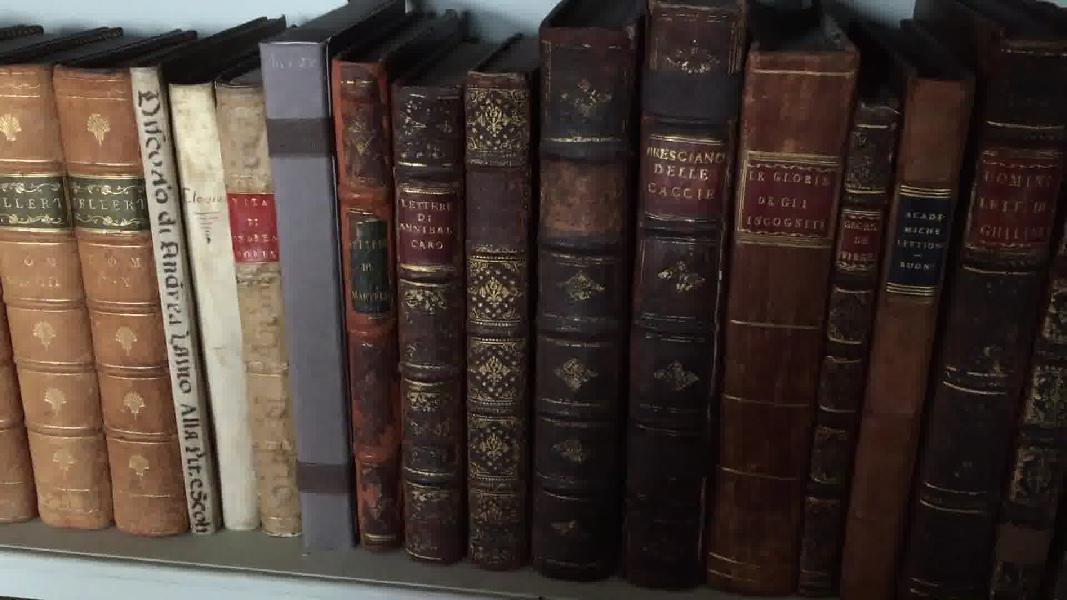Aa6-24: (127, 58, 224, 543)
Aa6-25: (161, 78, 273, 544)
Aa6-26: (221, 59, 291, 546)
Aa6-27: (244, 27, 358, 558)
Aa6-28: (323, 48, 416, 558)
Aa6-29: (381, 73, 477, 561)
Aa6-30: (461, 66, 540, 590)
Aa6-31: (531, 29, 632, 582)
Aa6-32: (627, 1, 743, 600)
Aa6-33: (700, 19, 852, 600)
Aa6-34: (786, 71, 894, 600)
Aa6-35: (843, 59, 958, 600)
Aa6-36: (911, 40, 1059, 600)
